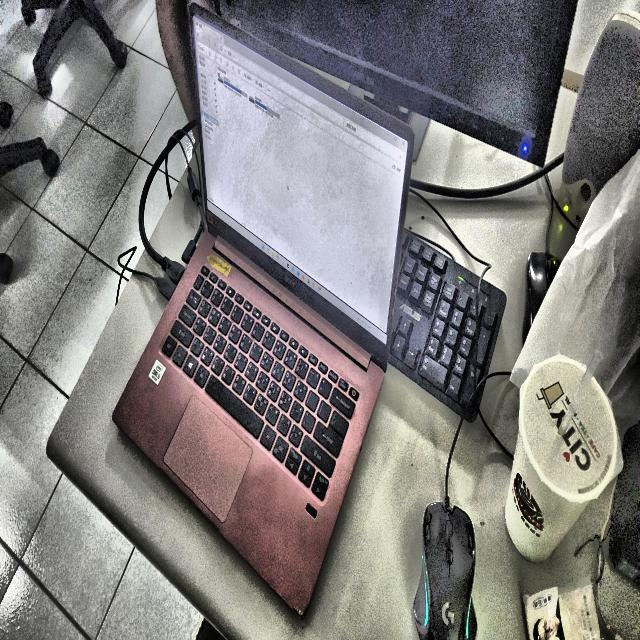Keyboard: (389, 230, 507, 421)
Laptop: (113, 5, 414, 617)
MOUSE: (413, 502, 477, 640), (522, 252, 561, 344)
Screen: (215, 0, 577, 165)
